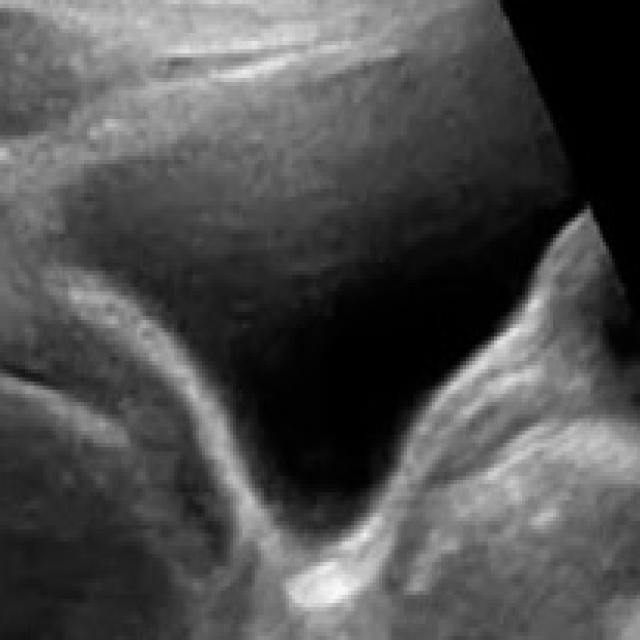bladder: (21, 18, 601, 590)
